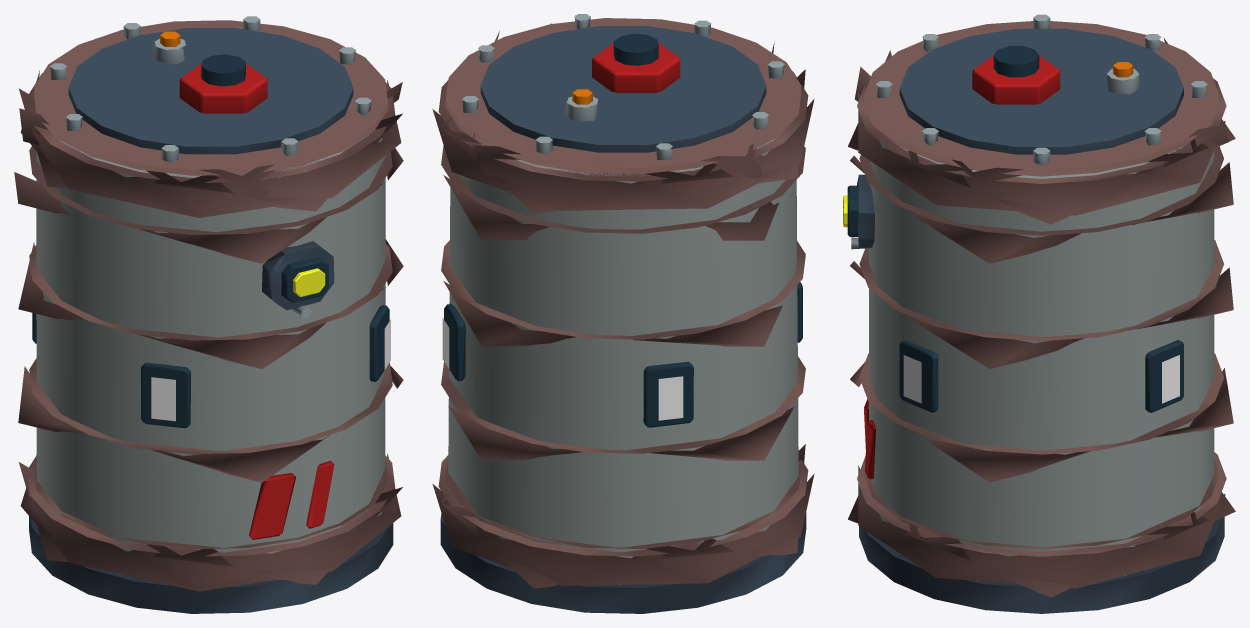
Rendered from fut-chimique.glb.
The picture shows the model from 3 angles, left to right: view 1: azimuth 30°, elevation 25°; view 2: azimuth 150°, elevation 25°; view 3: azimuth 270°, elevation 25°; orthographic projection.
Visible parts, largest first — view 1: corps__gris_clair, corps__rouge_fonce, corps__bleu_nuit, corps__rouge, corps__bleu_nuit3, corps__gris_clair2, corps__blanc, corps__lum_jaune; view 2: corps__gris_clair, corps__rouge_fonce, corps__bleu_nuit, corps__bleu_nuit3, corps__rouge, corps__gris_clair2, corps__blanc; view 3: corps__gris_clair, corps__rouge_fonce, corps__bleu_nuit, corps__bleu_nuit3, corps__rouge, corps__gris_clair2, corps__blanc.
Boxes of the visible parts, x1,y1,x2,y2 form: corps__gris_clair: [36, 135, 385, 574]; corps__rouge_fonce: [14, 20, 403, 591]; corps__bleu_nuit: [29, 28, 393, 613]; corps__rouge: [179, 63, 334, 539]; corps__bleu_nuit3: [32, 54, 389, 428]; corps__gris_clair2: [50, 16, 371, 318]; corps__blanc: [151, 319, 390, 421]; corps__lum_jaune: [293, 268, 325, 296]; corps__gris_clair: [448, 139, 798, 584]; corps__rouge_fonce: [432, 18, 814, 588]; corps__bleu_nuit: [440, 26, 806, 613]; corps__bleu_nuit3: [444, 33, 802, 427]; corps__rouge: [592, 42, 680, 92]; corps__gris_clair2: [462, 14, 784, 159]; corps__blanc: [442, 318, 683, 420]; corps__gris_clair: [869, 141, 1214, 575]; corps__rouge_fonce: [848, 21, 1235, 597]; corps__bleu_nuit: [857, 28, 1224, 613]; corps__bleu_nuit3: [847, 46, 1183, 412]; corps__rouge: [864, 55, 1060, 479]; corps__gris_clair2: [851, 14, 1207, 249]; corps__blanc: [903, 355, 1179, 403].
Size of the model in its own units: 0.6546 by 0.9 by 0.6624.
